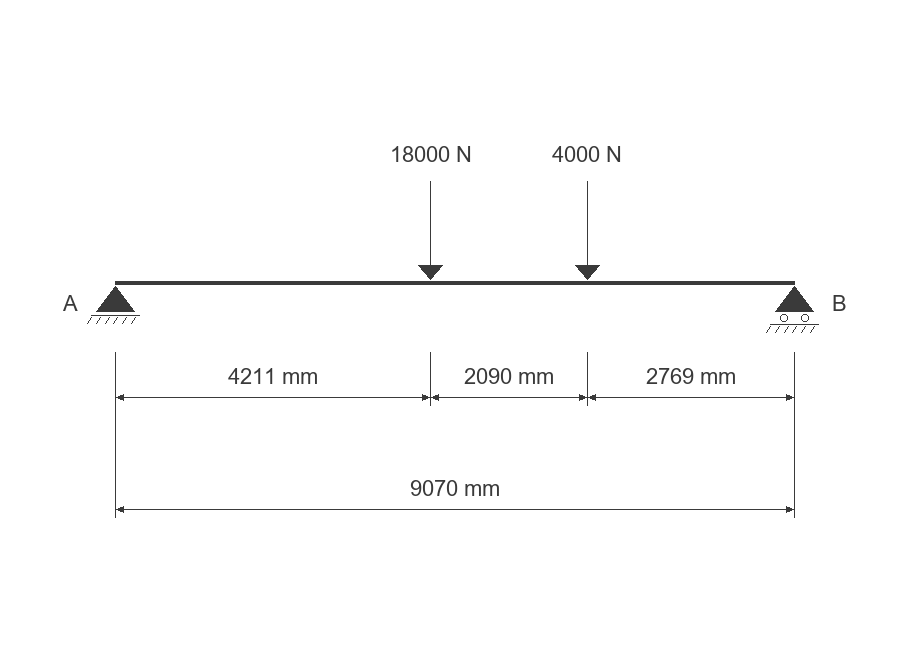pin_support: (87, 286, 140, 324)
point_load: (418, 181, 443, 280), (575, 181, 600, 280)
roller_support: (766, 286, 819, 333)
